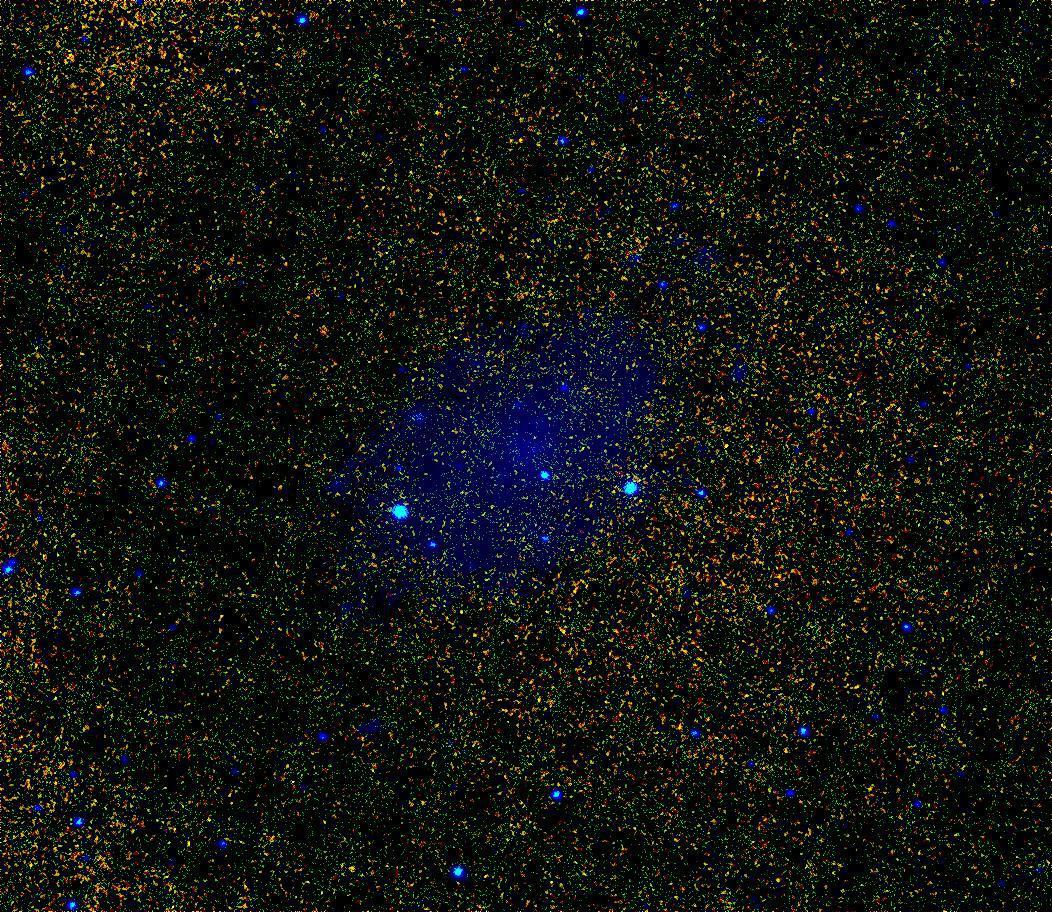star: (996, 63, 1026, 93)
